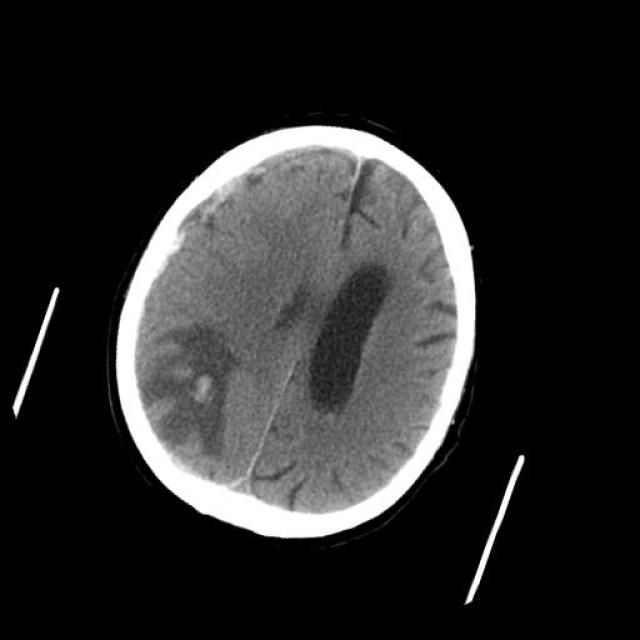Subdural: (146, 93, 337, 278)
